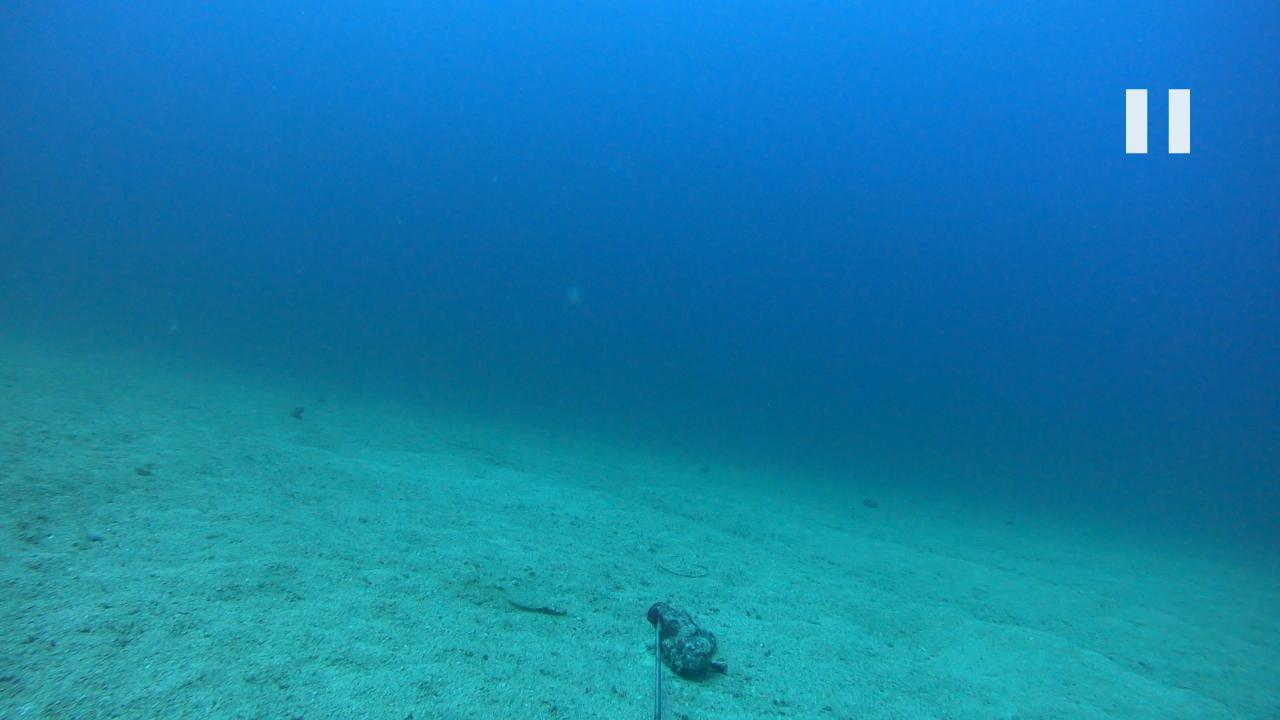bothus: (496, 584, 576, 622)
